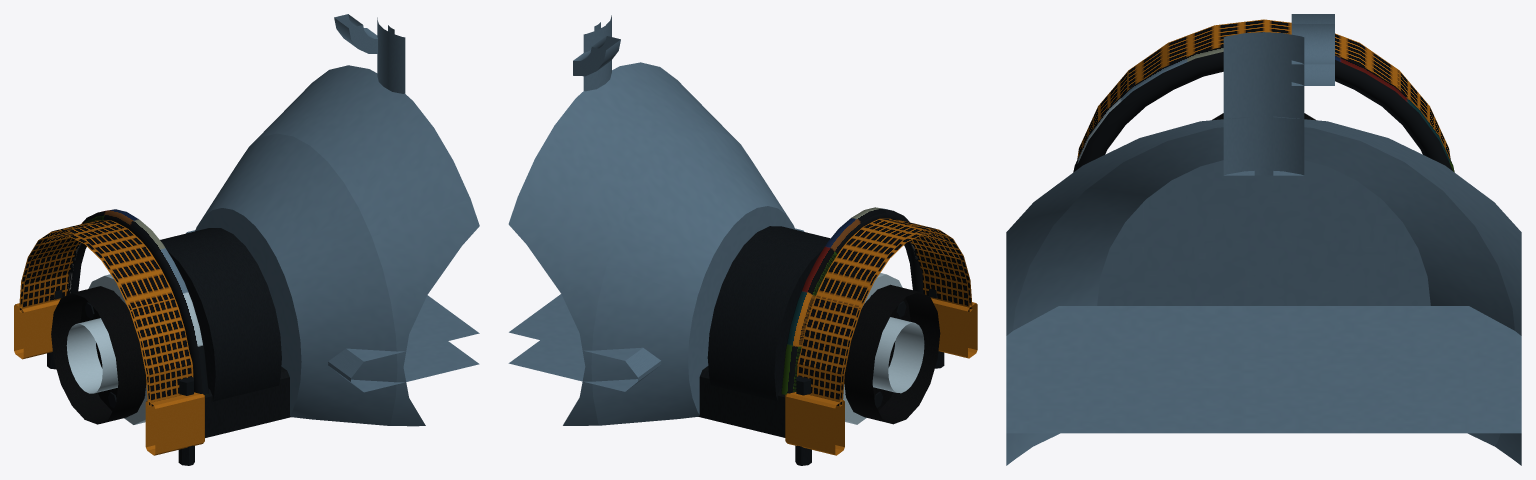
File: cell_32.obj
3 views of the same model, side by side, from view 1: azimuth 30°, elevation 25°; view 2: azimuth 150°, elevation 25°; view 3: azimuth 270°, elevation 25° (orthographic). The views are drawn at different scales.
Parts seen in each view (by area): view 1: cell_32; view 2: cell_32; view 3: cell_32.
Boxes of the visible parts, bbox=[...] form: cell_32: bbox=[14, 14, 479, 465]; cell_32: bbox=[508, 15, 977, 465]; cell_32: bbox=[1006, 14, 1521, 465].
Size of the model in its own units: 1 by 1 by 1.
